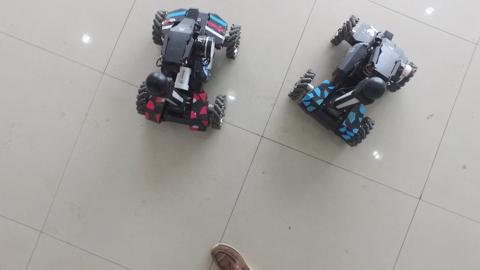chariot: (288, 13, 423, 153), (131, 6, 249, 136)
